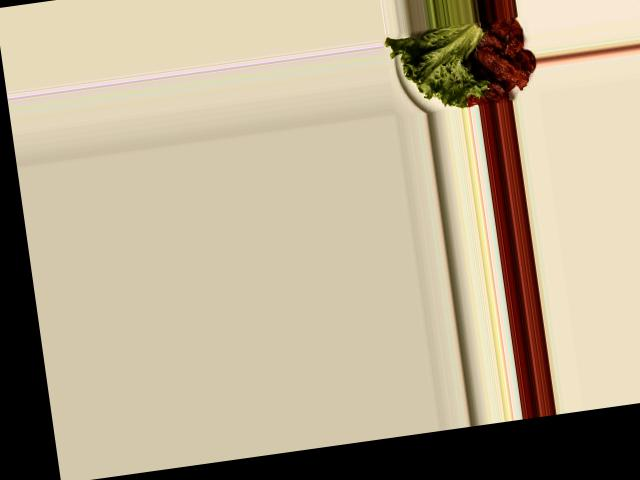lettuce: (388, 20, 492, 114)
